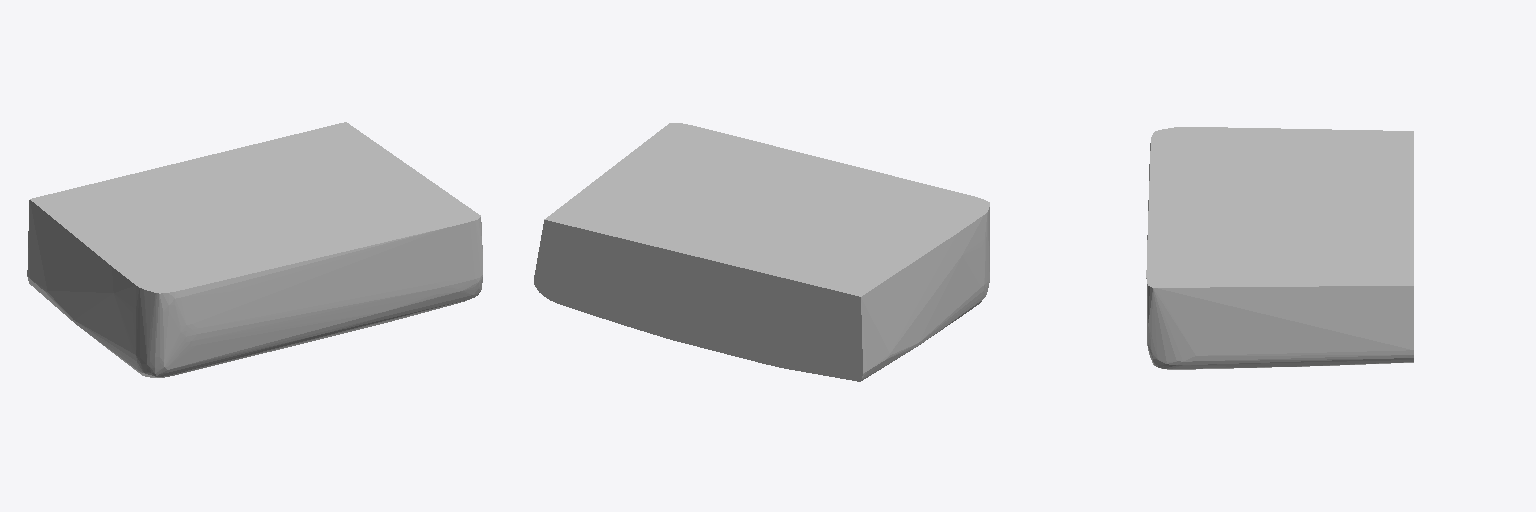
The model's file is box_pink_M_collision_1.obj.
The picture shows the model from 3 angles: view 1: azimuth 30°, elevation 25°; view 2: azimuth 150°, elevation 25°; view 3: azimuth 270°, elevation 25°; orthographic projection.
Size of the model in its own units: 0.0701 by 0.0187 by 0.0481.